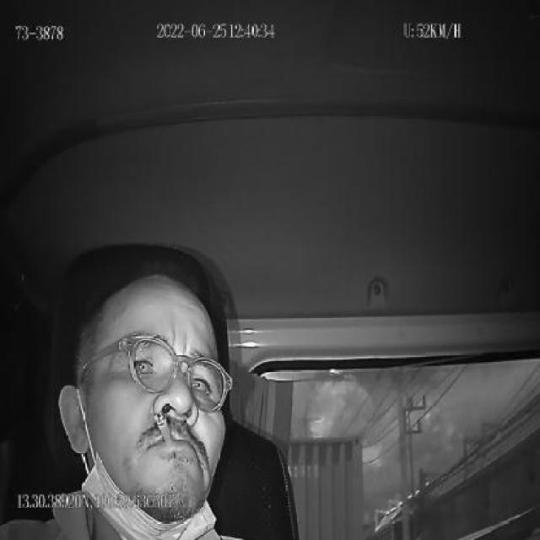smoking: (154, 411, 173, 443)
